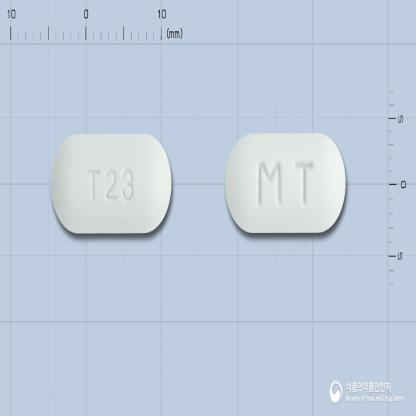pill: (49, 131, 173, 235), (224, 132, 347, 234)
